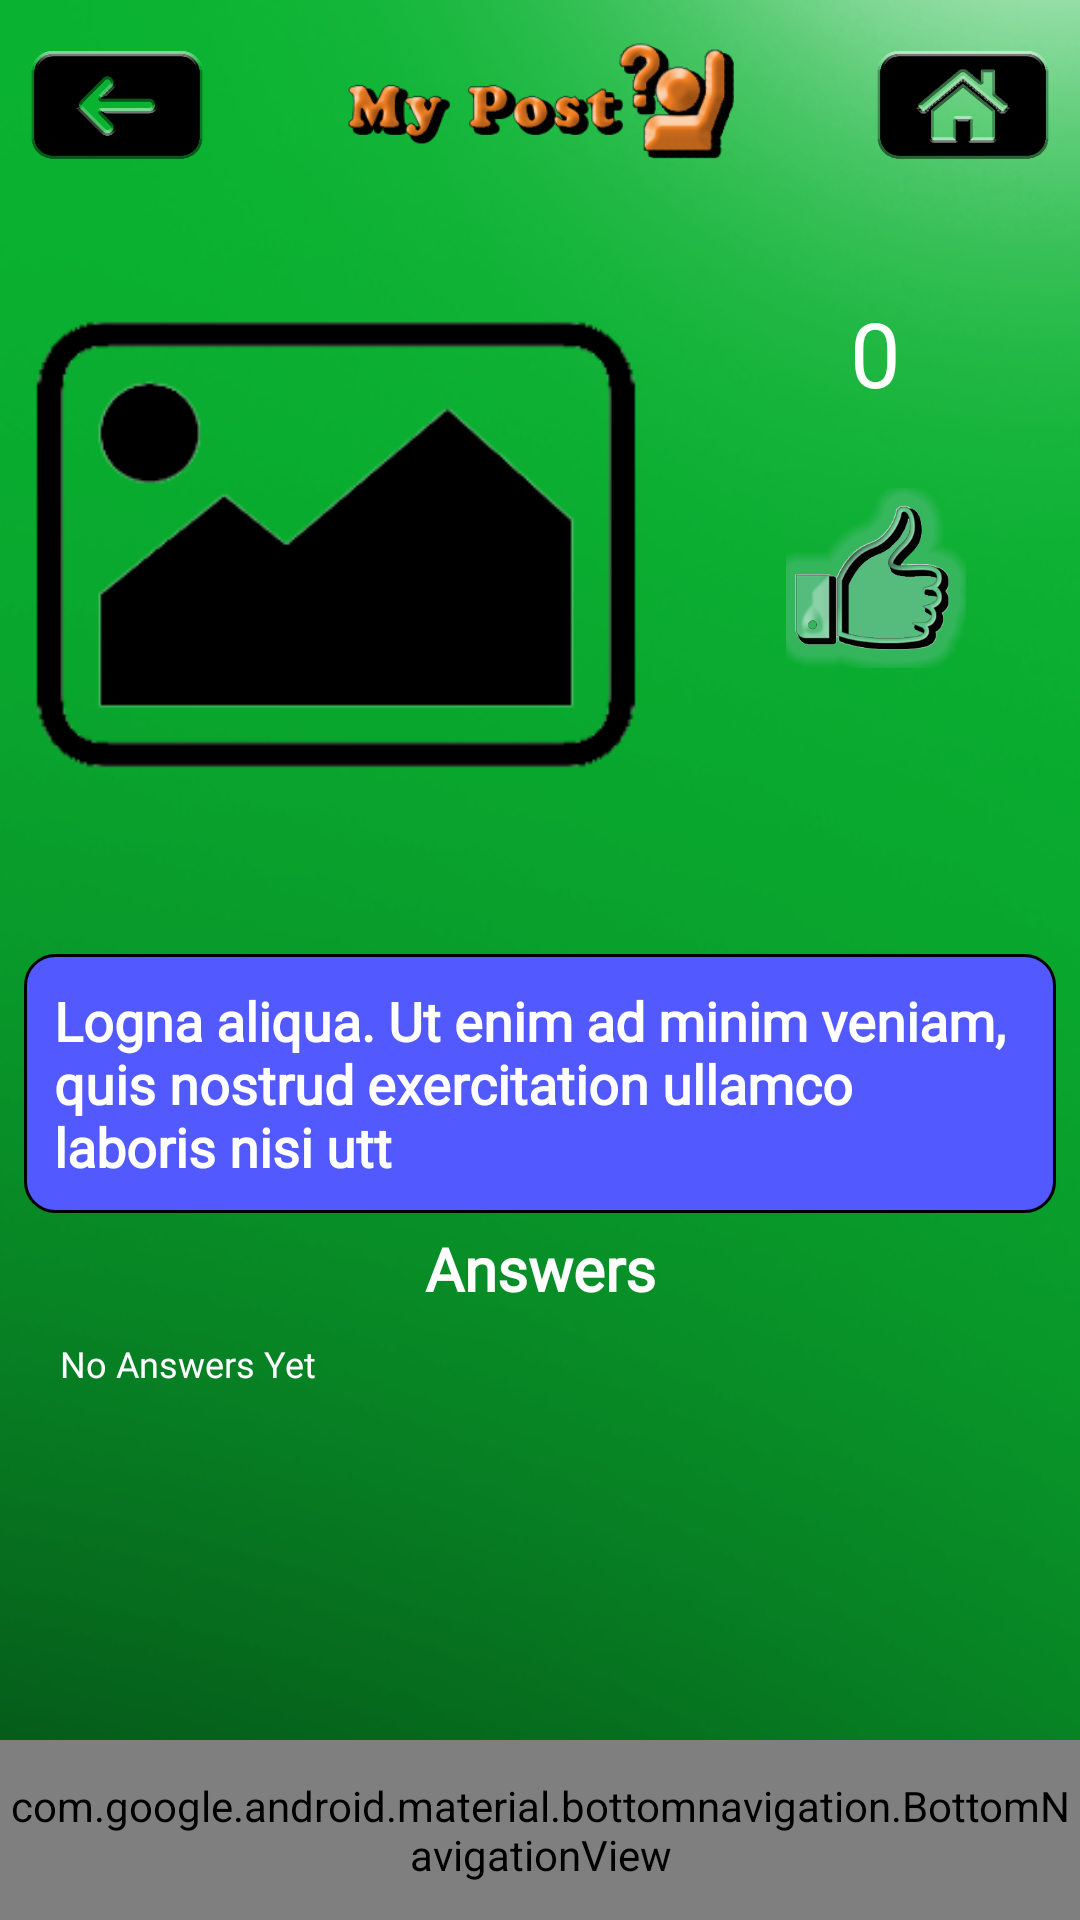

Icon bounding boxes for this 1080×1920 phone screenshot, format (x1,y1,x2,y2):
backbutt: (32,51,202,159)
homebutt: (846,0,1080,163)
thumbsclicked: (786,488,966,666)
